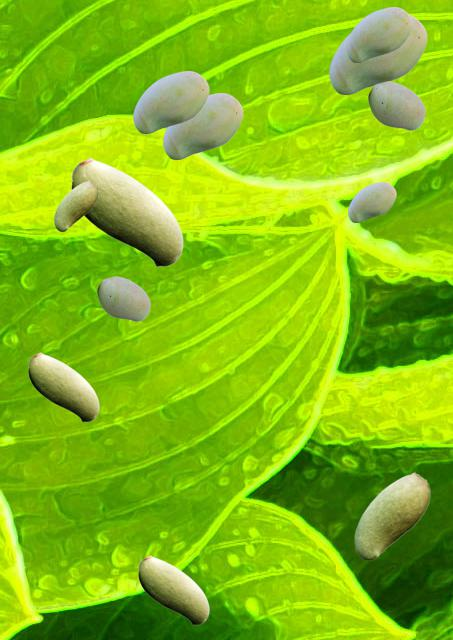green_mango: (71, 157, 182, 266), (329, 14, 426, 93), (354, 472, 429, 559), (163, 93, 242, 158), (28, 352, 98, 421), (138, 555, 208, 624), (133, 71, 208, 132), (346, 7, 411, 61), (368, 81, 424, 129), (97, 276, 149, 320), (54, 180, 97, 230), (348, 182, 395, 221)
